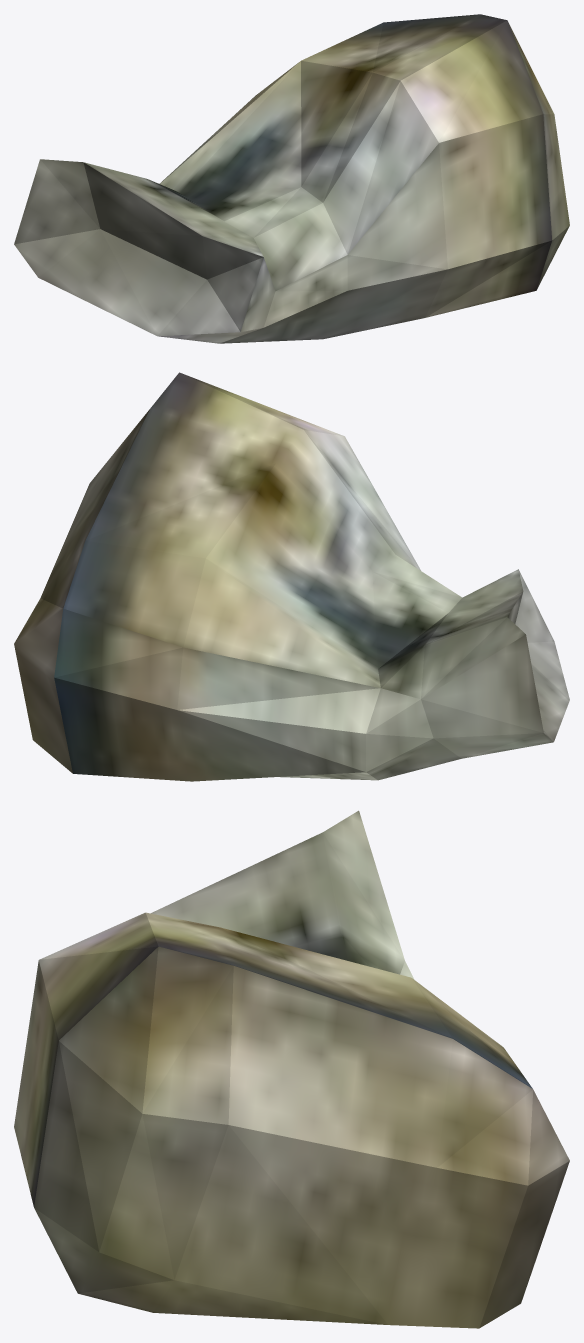
Rendered from garbage_bag001a.glb.
3 renders of one model, top to bottom at view 1: azimuth 30°, elevation 25°; view 2: azimuth 150°, elevation 25°; view 3: azimuth 270°, elevation 25°, orthographic. The views are drawn at different scales.
Visible parts, largest first — view 1: 0_garbage003a_01; view 2: 0_garbage003a_01; view 3: 0_garbage003a_01.
Boxes of the visible parts, x1,y1,x2,y2 form: 0_garbage003a_01: (14, 14, 569, 343); 0_garbage003a_01: (14, 372, 569, 781); 0_garbage003a_01: (14, 810, 569, 1328).
Size of the model in its own units: 0.4586 by 0.2608 by 0.3337.
1 material, 1 textured.
